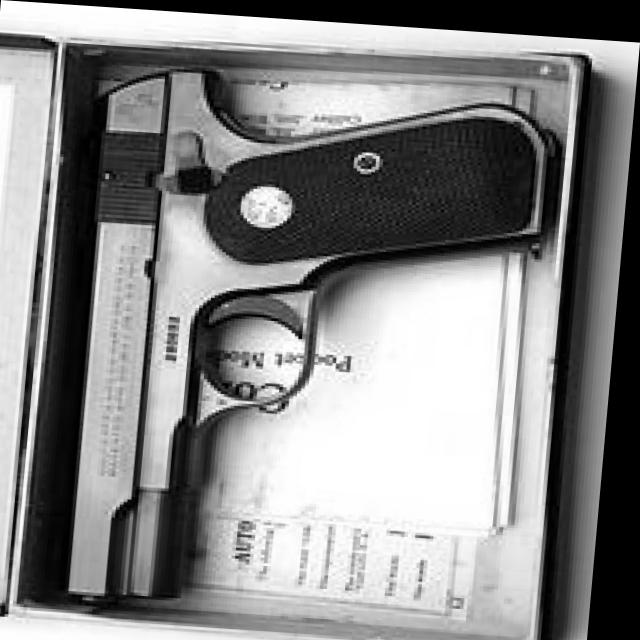handgun: (65, 61, 566, 627)
